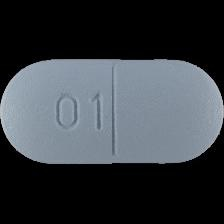64376-136: (0, 0, 224, 224)
